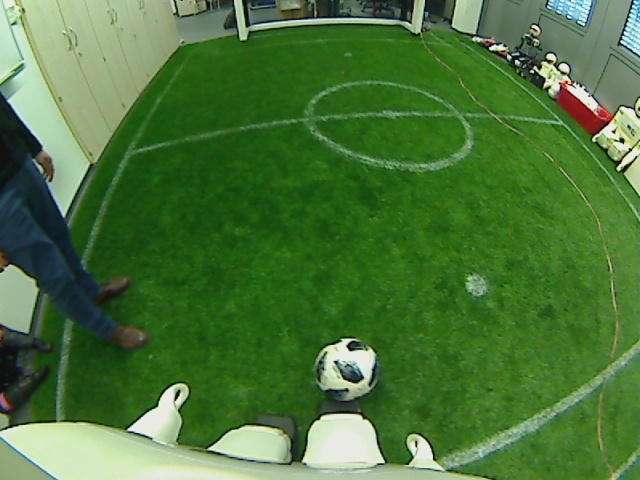ball: (311, 335, 379, 402)
